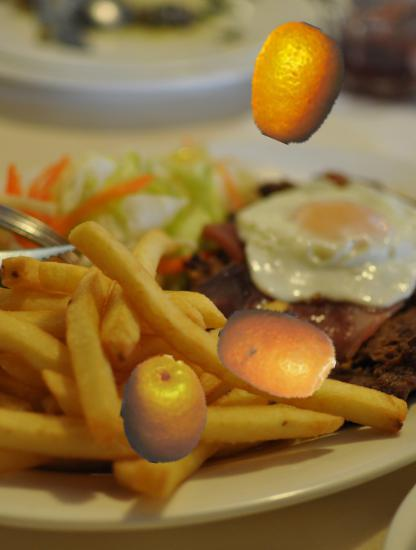Kumquats: (235, 23, 356, 144), (216, 291, 337, 412), (110, 355, 220, 465)
